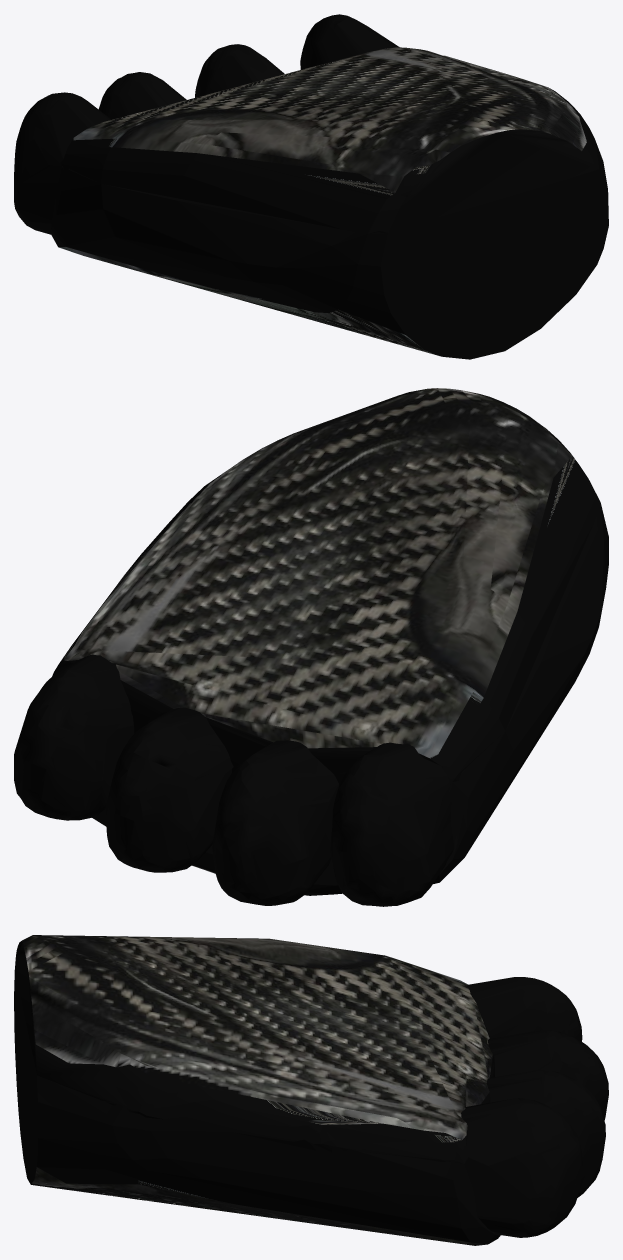
File: FB_palm_ref_lp.obj
The picture shows the model from 3 angles, top to bottom: view 1: azimuth 30°, elevation 25°; view 2: azimuth 150°, elevation 25°; view 3: azimuth 270°, elevation 25°; orthographic projection. The views are drawn at different scales.
Visible parts, largest first — view 1: FB_palm_ref; view 2: FB_palm_ref; view 3: FB_palm_ref.
Part boxes in pixels (x1=…): FB_palm_ref: x1=14, y1=14, x2=608, y2=359; FB_palm_ref: x1=14, y1=388, x2=608, y2=906; FB_palm_ref: x1=14, y1=935, x2=608, y2=1245.
Size of the model in its own units: 0.0813 by 0.053 by 0.1105.
Materials: 1 (1 with a texture image).
